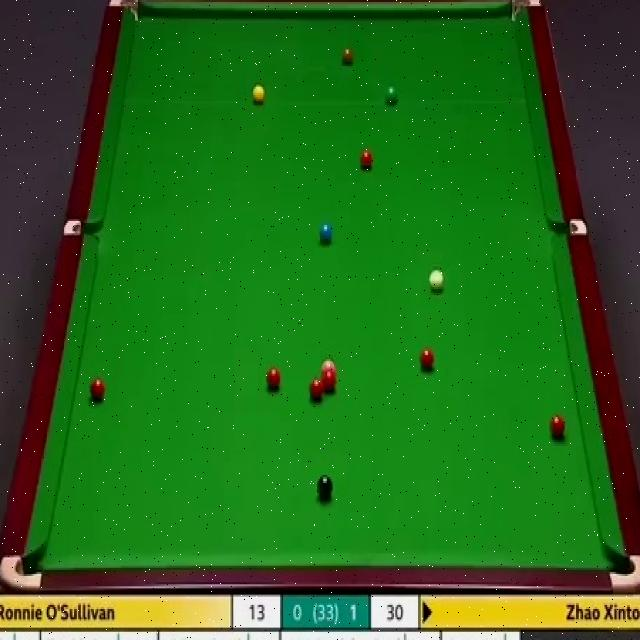black-ball: (316, 474, 334, 500)
blue-ball: (318, 223, 332, 242)
brown-ball: (341, 47, 353, 65)
green-ball: (383, 83, 398, 105)
pink-ball: (321, 361, 335, 377)
red-ball: (88, 377, 106, 402), (548, 415, 566, 437), (308, 378, 324, 401), (266, 368, 282, 390), (420, 347, 434, 372), (359, 150, 373, 171), (321, 374, 336, 392)
white-ball: (428, 266, 446, 292)
yellow-ball: (251, 84, 265, 104)
